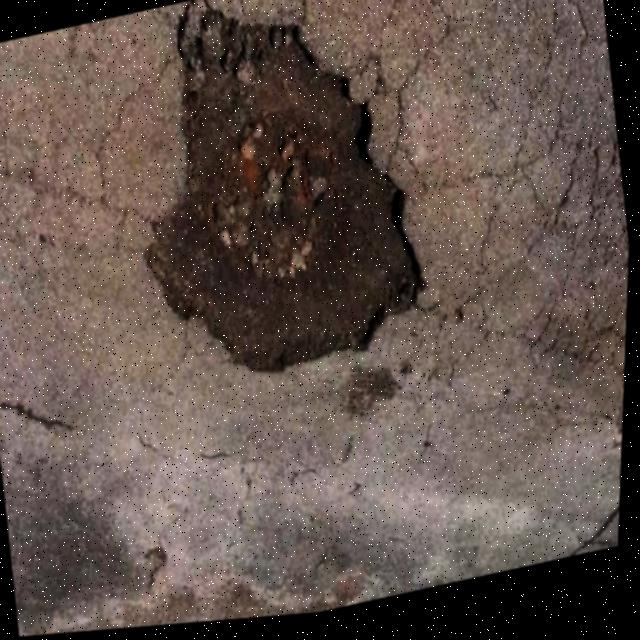Pothole: (114, 0, 453, 415)
